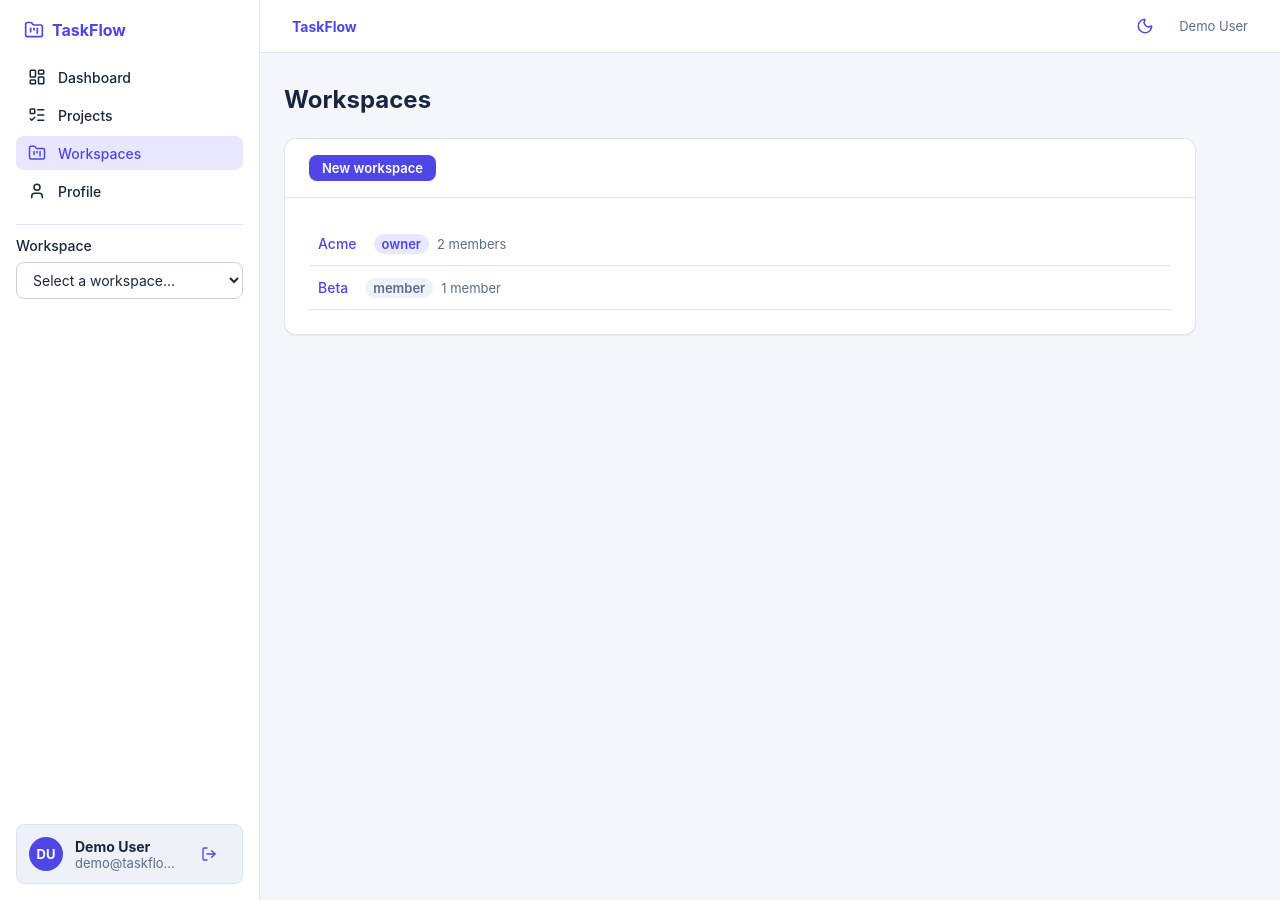
Test: workspace-pane — "New workspace opens the creation drawer" (@w2) › opens a labelled dialog with the workspace name field
The image size is (1280, 900).
Expected: the button "Acme" is shown, x1=309 y1=230 x2=366 y2=257
Click the button "New workspace": coordinates (373, 168) x1=309 y1=155 x2=436 y2=181
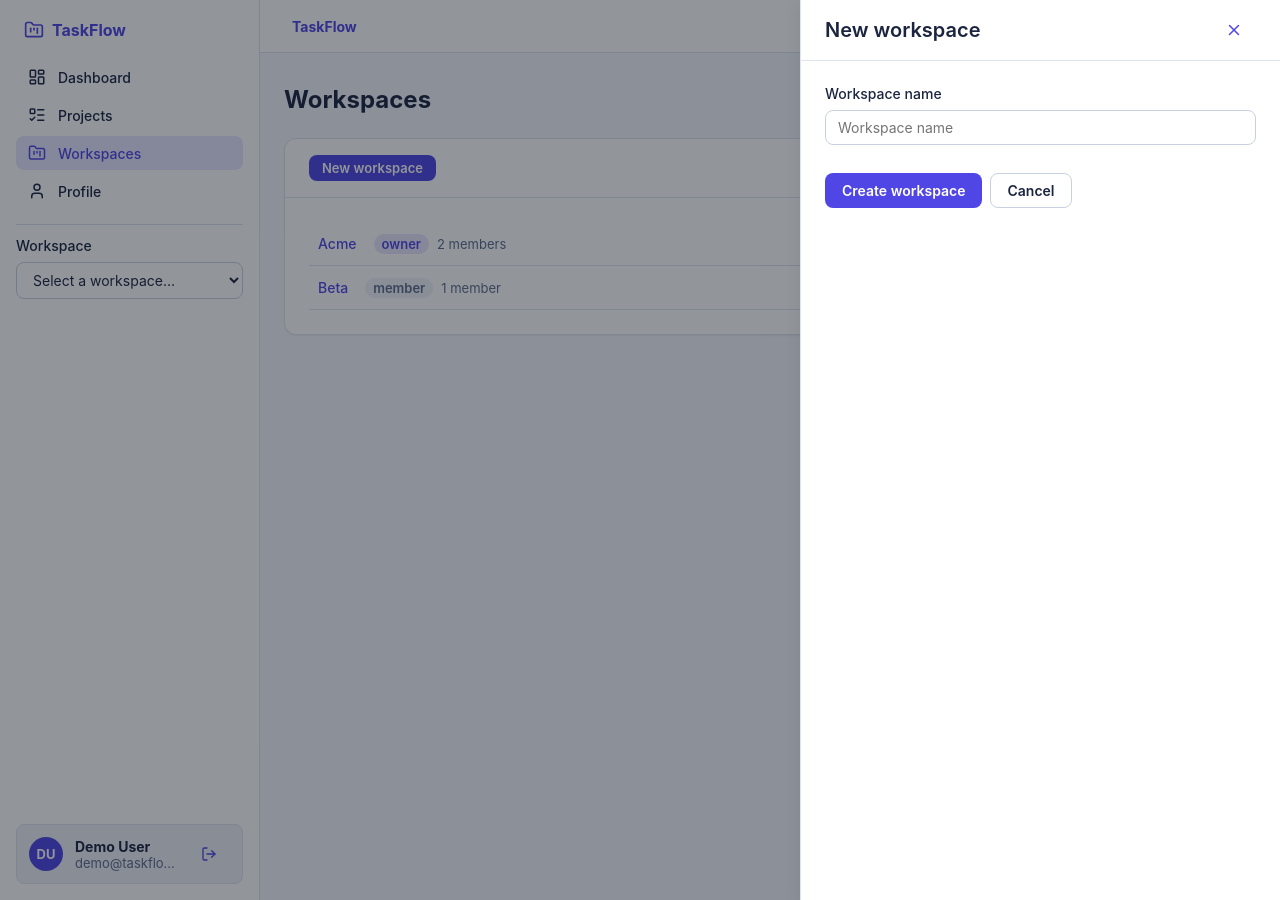
Expected: the field labelled "Workspace name" is shown, x1=825 y1=110 x2=1256 y2=145
Expected: the button "Create workspace" is shown, x1=825 y1=173 x2=982 y2=208
